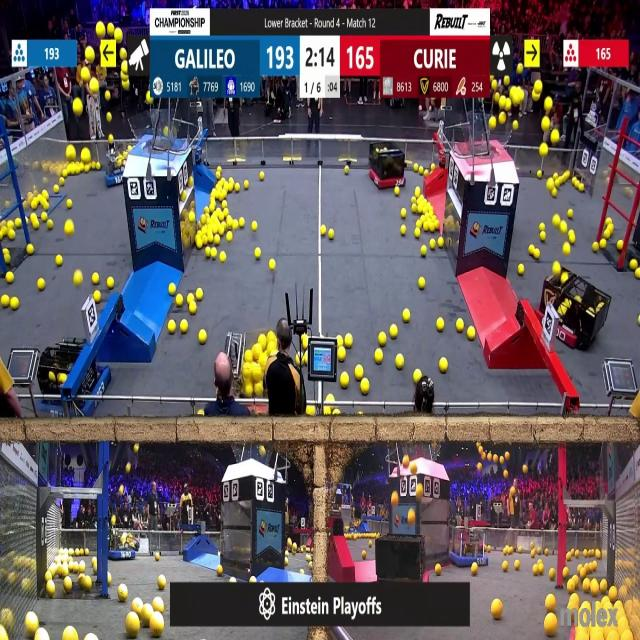ball_airborne: (550, 130, 560, 146), (73, 99, 82, 115), (80, 68, 90, 82), (66, 145, 76, 159), (97, 23, 106, 38), (87, 47, 95, 62), (534, 80, 542, 95), (540, 116, 548, 130), (91, 78, 99, 92), (74, 272, 82, 286), (409, 510, 417, 524), (66, 220, 74, 233), (114, 29, 122, 42), (543, 98, 551, 111), (81, 148, 89, 161), (497, 95, 505, 108), (416, 485, 424, 498), (563, 243, 571, 255), (539, 144, 547, 156), (554, 264, 562, 276), (498, 112, 506, 123), (120, 62, 127, 74), (568, 233, 575, 245), (145, 93, 152, 105), (411, 461, 418, 473), (510, 86, 516, 100), (505, 98, 511, 111), (392, 492, 398, 505), (490, 116, 497, 127), (118, 48, 125, 59), (515, 65, 522, 76), (554, 214, 560, 226), (108, 24, 114, 36), (164, 126, 170, 138), (518, 88, 524, 100), (121, 80, 128, 89), (503, 76, 509, 86), (402, 456, 408, 466), (561, 221, 567, 231), (259, 447, 265, 457), (127, 463, 133, 473), (110, 516, 116, 526), (512, 99, 520, 106), (492, 80, 498, 89), (108, 135, 114, 144), (511, 488, 517, 497), (107, 112, 112, 122), (514, 119, 519, 129), (105, 92, 110, 102), (523, 464, 528, 474), (134, 445, 140, 453), (499, 456, 504, 464), (504, 453, 509, 461), (477, 462, 482, 470), (481, 452, 486, 460), (122, 486, 126, 495), (503, 470, 507, 478), (488, 454, 492, 462), (494, 454, 498, 461)
ball_ground: (127, 616, 141, 638), (150, 617, 163, 638), (544, 616, 556, 637), (27, 615, 39, 635), (492, 600, 502, 619), (544, 595, 554, 612), (118, 586, 128, 602), (568, 594, 578, 610), (152, 598, 163, 612), (590, 582, 600, 596), (65, 628, 77, 639), (360, 380, 369, 394), (376, 349, 384, 364), (441, 357, 449, 372), (46, 583, 54, 598), (608, 587, 616, 602), (1, 294, 10, 307), (85, 576, 94, 589), (355, 365, 363, 379), (65, 580, 73, 594), (414, 368, 422, 382), (567, 580, 575, 594), (342, 374, 349, 389), (346, 336, 354, 349), (456, 319, 464, 332), (339, 348, 347, 361), (10, 296, 18, 309), (379, 334, 387, 347), (159, 575, 167, 588), (438, 318, 446, 331), (169, 320, 176, 334), (390, 324, 397, 338), (396, 354, 403, 368), (200, 332, 208, 344), (188, 303, 196, 315), (194, 288, 202, 300), (194, 238, 202, 250), (402, 310, 409, 323), (467, 326, 474, 339), (180, 321, 187, 334), (32, 218, 40, 229), (175, 294, 182, 306), (37, 279, 44, 291), (470, 563, 477, 575), (95, 290, 102, 302), (4, 252, 11, 264), (187, 292, 194, 304), (550, 568, 557, 580), (133, 600, 140, 612), (584, 581, 591, 593), (0, 628, 7, 640), (307, 408, 315, 418), (210, 248, 218, 258), (630, 261, 638, 271), (428, 220, 436, 230), (419, 278, 426, 289), (434, 564, 441, 575), (107, 278, 114, 289), (254, 248, 261, 259), (170, 283, 177, 294), (93, 274, 100, 285), (270, 261, 277, 272), (546, 179, 553, 190), (57, 254, 63, 266), (6, 273, 12, 285), (338, 336, 344, 348), (303, 338, 309, 350), (420, 246, 427, 256), (42, 202, 49, 212), (188, 212, 195, 222), (218, 223, 225, 233), (78, 563, 85, 573), (220, 251, 226, 262), (518, 266, 524, 277), (563, 567, 569, 578), (593, 242, 599, 253), (225, 216, 231, 227), (208, 234, 214, 245), (226, 183, 232, 194), (213, 236, 220, 245), (324, 408, 331, 417), (220, 190, 227, 199), (28, 245, 34, 255), (226, 232, 232, 242), (217, 565, 223, 575), (618, 241, 624, 251), (415, 230, 421, 240), (46, 219, 52, 229), (67, 200, 73, 210), (502, 562, 508, 572), (239, 218, 245, 228), (439, 238, 445, 248), (8, 231, 14, 241), (533, 249, 539, 259), (205, 247, 211, 257), (14, 218, 20, 228), (429, 240, 435, 250), (87, 634, 97, 640), (532, 564, 538, 574), (233, 218, 239, 228), (75, 165, 81, 175), (596, 550, 602, 560), (326, 394, 333, 402), (400, 224, 405, 235), (216, 167, 221, 178), (539, 233, 545, 242), (394, 187, 400, 196), (600, 240, 606, 249), (327, 231, 333, 240), (244, 180, 250, 189), (258, 172, 264, 181), (41, 212, 47, 221), (423, 222, 429, 231), (218, 212, 224, 221), (83, 165, 89, 174), (252, 220, 257, 230), (516, 560, 521, 570), (529, 246, 534, 256), (320, 225, 325, 235), (334, 410, 341, 417), (154, 554, 160, 562), (250, 575, 256, 583), (413, 205, 419, 213), (604, 232, 610, 240), (552, 188, 558, 196), (577, 183, 583, 191), (55, 184, 61, 192), (530, 551, 536, 559), (221, 201, 227, 209), (413, 194, 419, 202), (222, 208, 228, 216), (42, 189, 48, 197), (62, 170, 68, 178), (566, 554, 572, 562), (413, 165, 419, 173), (572, 178, 578, 186), (32, 202, 38, 210), (400, 209, 405, 218), (202, 214, 207, 223), (419, 167, 424, 176), (108, 573, 112, 584), (231, 576, 237, 583), (198, 412, 205, 418), (430, 165, 436, 172), (539, 222, 544, 230), (236, 183, 241, 191), (284, 559, 289, 567), (536, 172, 541, 180), (416, 186, 420, 196), (93, 559, 98, 567), (503, 545, 508, 553), (636, 270, 640, 279), (345, 168, 350, 175), (61, 178, 66, 185), (416, 220, 421, 227), (205, 207, 210, 214), (96, 163, 101, 170), (84, 551, 89, 558), (568, 210, 572, 218), (362, 552, 366, 560), (307, 555, 311, 562), (309, 562, 313, 569), (424, 170, 428, 177), (298, 568, 302, 574)
goal: (128, 116, 188, 152), (461, 120, 516, 158)
robot_blue: (32, 337, 109, 417), (449, 528, 487, 568), (107, 527, 139, 559), (103, 144, 126, 187)
robot_red: (542, 270, 612, 349), (229, 330, 284, 415), (368, 142, 406, 190)
